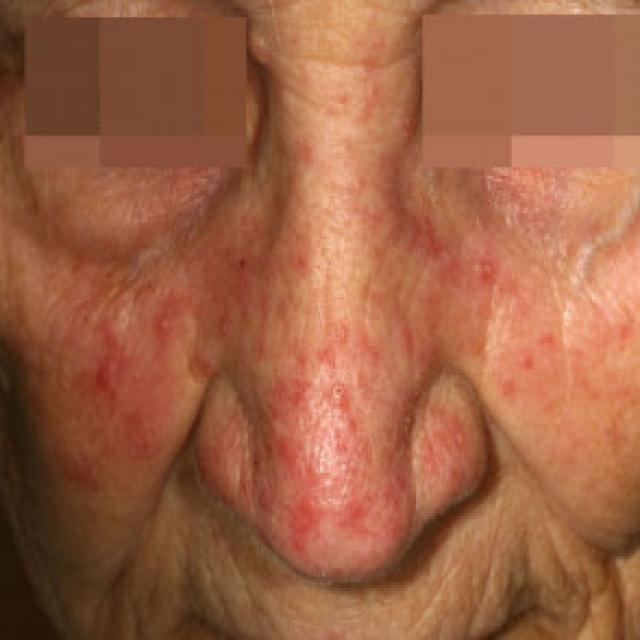Rosacea: (205, 289, 462, 552), (415, 228, 622, 413), (71, 286, 202, 498)
